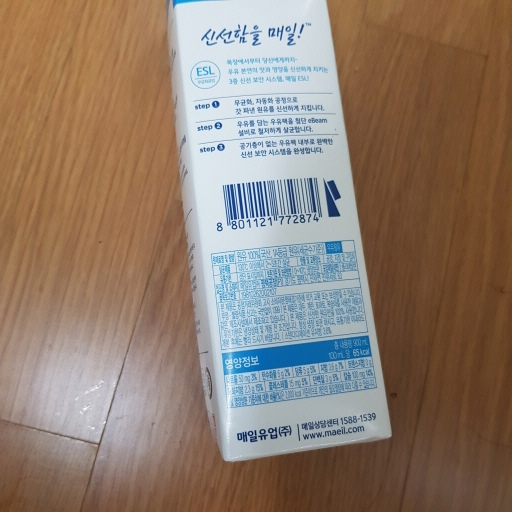Paper_0: (158, 1, 399, 469)
